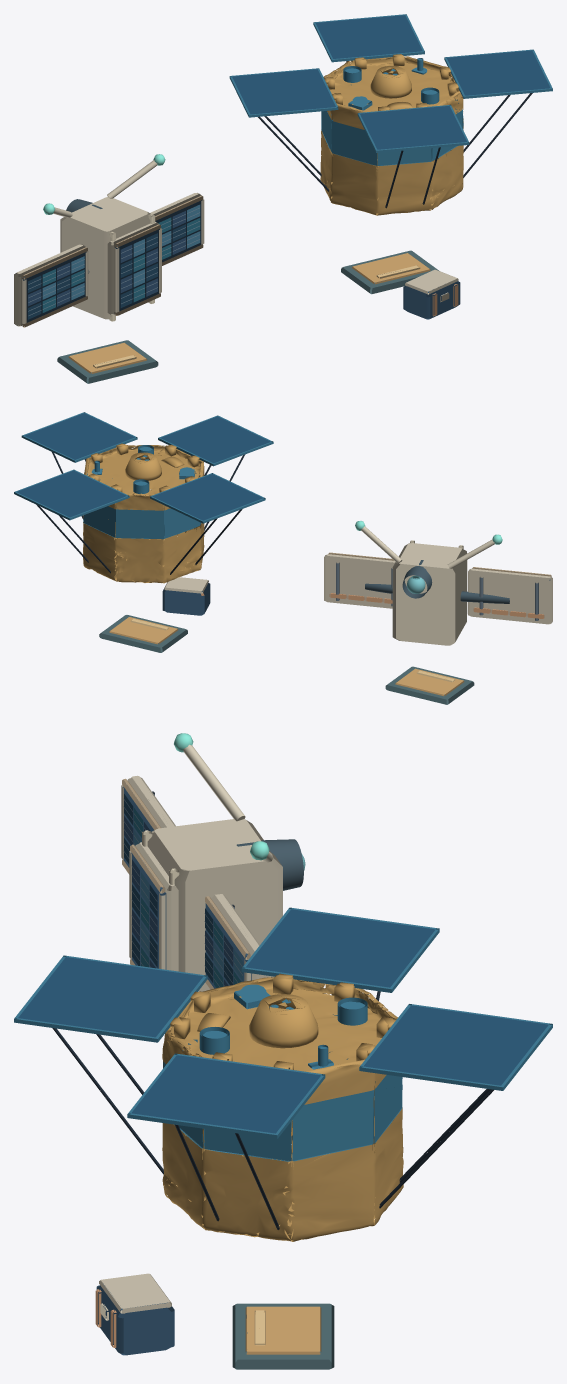
File: sonda.obj
3 views of the same model, one above another, from view 1: azimuth 30°, elevation 25°; view 2: azimuth 150°, elevation 25°; view 3: azimuth 270°, elevation 25° (orthographic). The views are drawn at different scales.
Parts seen in each view (by area): view 1: sonda; view 2: sonda; view 3: sonda.
Part boxes in pixels (<box>): sonda: <box>14,14,552,383</box>; sonda: <box>14,412,552,704</box>; sonda: <box>14,733,552,1369</box>.
Size of the model in its own units: 1.76 by 0.609 by 0.8818.
